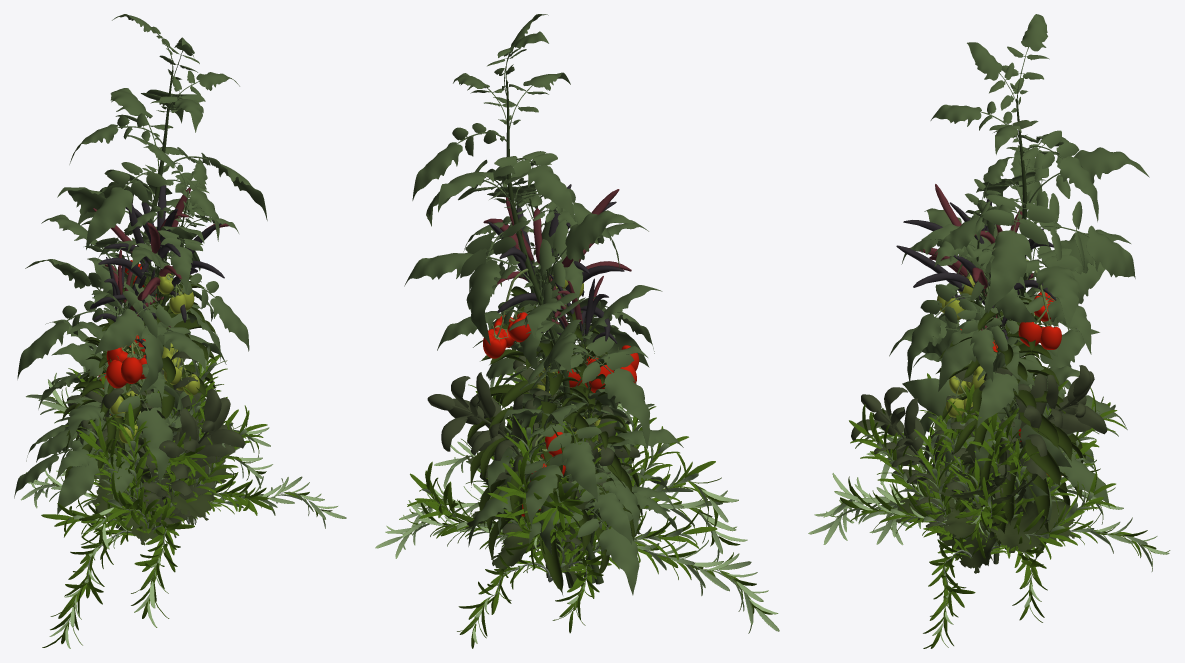
The model's file is pepper1_t.glb.
3 views of the same model, side by side, from view 1: azimuth 30°, elevation 25°; view 2: azimuth 150°, elevation 25°; view 3: azimuth 270°, elevation 25° (orthographic). The views are drawn at different scales.
Visible parts, largest first — view 1: TOMATO 18092019 2, rosemary 021023 1, TOMATO 18092019 2.001, basil 13032021 008, Red pepper 24092019 2, Red pepper 24092019 5, Lettuce 13032019 006; view 2: TOMATO 18092019 2, rosemary 021023 1, TOMATO 18092019 2.001, Red pepper 24092019 2, basil 13032021 008, Red pepper 24092019 5, Lettuce 13032019 006; view 3: TOMATO 18092019 2, rosemary 021023 1, TOMATO 18092019 2.001, Red pepper 24092019 2, basil 13032021 008, Lettuce 13032019 006.
Part boxes in pixels (<box>): TOMATO 18092019 2: <box>14,14,267,524</box>; rosemary 021023 1: <box>21,345,346,648</box>; TOMATO 18092019 2.001: <box>26,144,249,528</box>; basil 13032021 008: <box>67,298,244,525</box>; Red pepper 24092019 2: <box>73,179,229,530</box>; Red pepper 24092019 5: <box>60,249,170,478</box>; Lettuce 13032019 006: <box>91,394,236,545</box>; TOMATO 18092019 2: <box>404,14,683,595</box>; rosemary 021023 1: <box>375,367,779,648</box>; TOMATO 18092019 2.001: <box>463,159,674,583</box>; Red pepper 24092019 2: <box>466,184,631,594</box>; basil 13032021 008: <box>427,354,640,577</box>; Red pepper 24092019 5: <box>541,273,642,577</box>; Lettuce 13032019 006: <box>460,410,642,586</box>; TOMATO 18092019 2: <box>902,14,1149,547</box>; rosemary 021023 1: <box>808,373,1170,648</box>; TOMATO 18092019 2.001: <box>889,157,1096,523</box>; Red pepper 24092019 2: <box>896,184,1085,559</box>; basil 13032021 008: <box>851,357,1106,564</box>; Lettuce 13032019 006: <box>896,417,1074,573</box>.
Bounding box in the file's own units: 0.5659 × 0.9425 × 0.5189.
